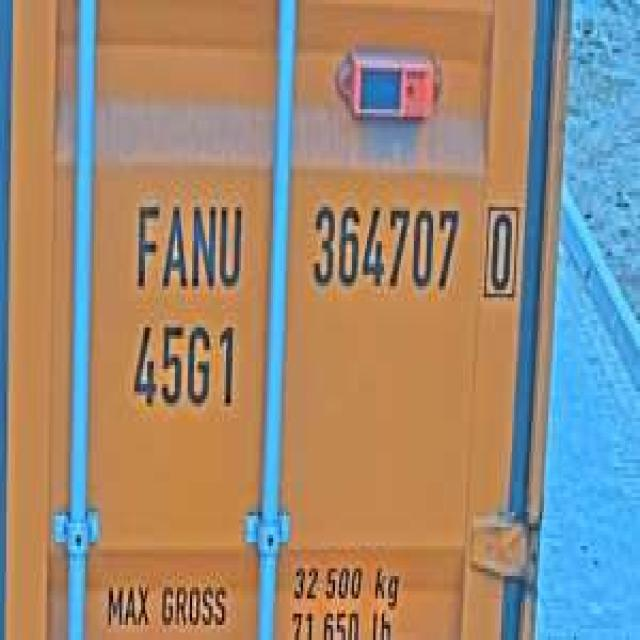dv: (478, 192, 523, 305)
owner: (126, 188, 247, 298)
serial: (305, 192, 461, 301)
size: (126, 309, 243, 414)
